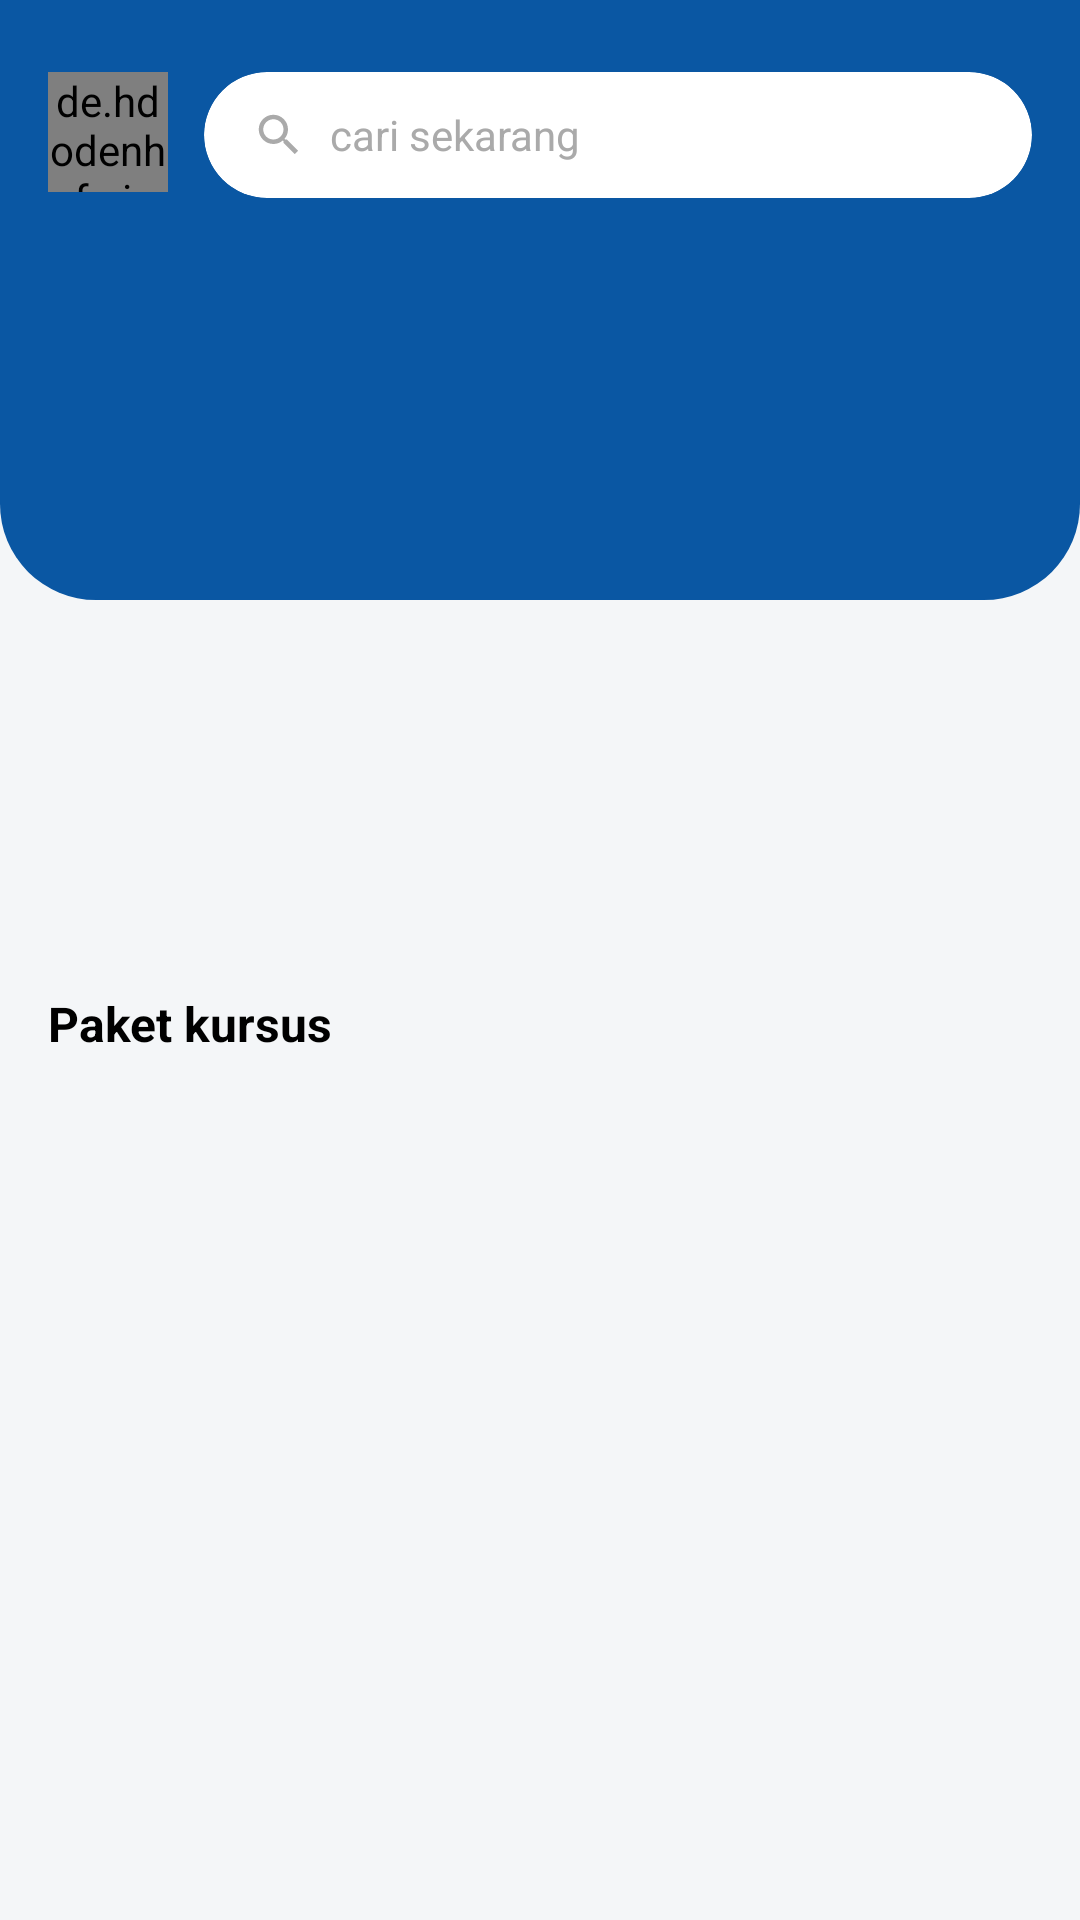

Icon bounding boxes for this 1080 x 1920 phone screenshot, format {"x1": x1, "y1": y1, "x2": x2, "y2": y2}:
search: {"x1": 259, "y1": 115, "x2": 298, "y2": 154}
